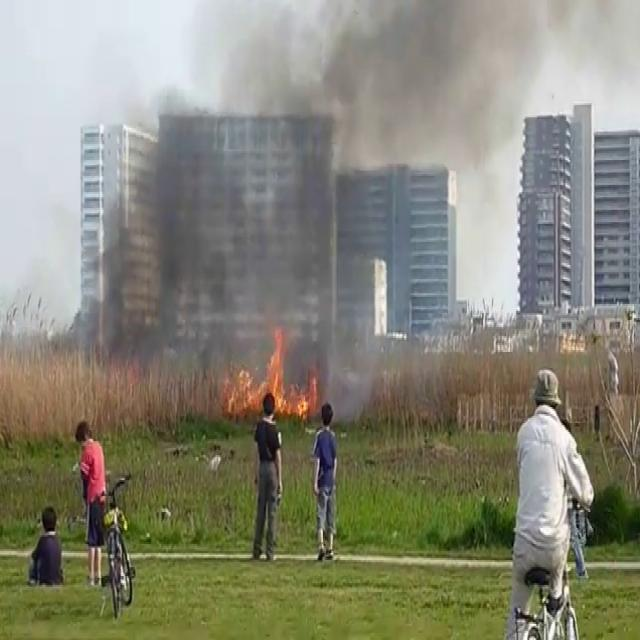Fire: (224, 318, 320, 420)
Smoke: (94, 0, 526, 378)
